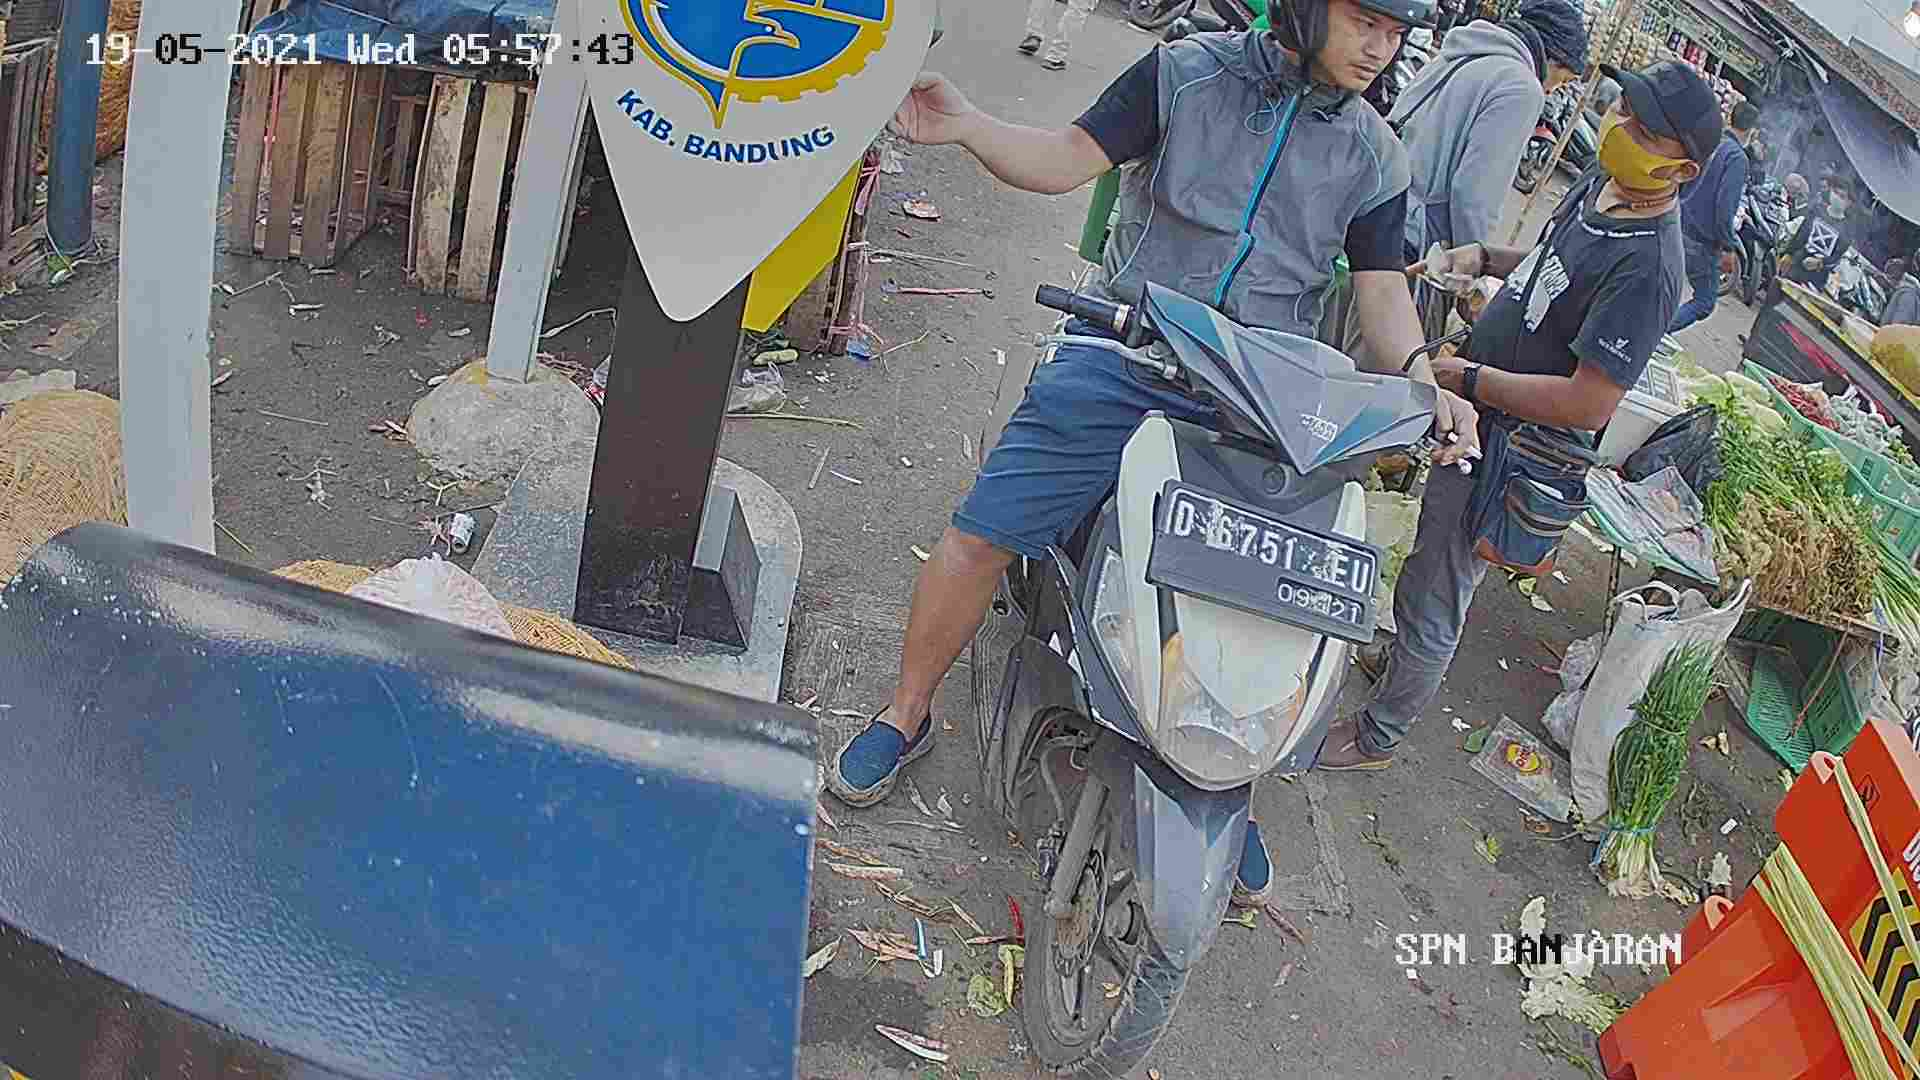motor: (945, 290, 1437, 1080)
